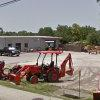Tractor: (20, 44, 82, 84)
